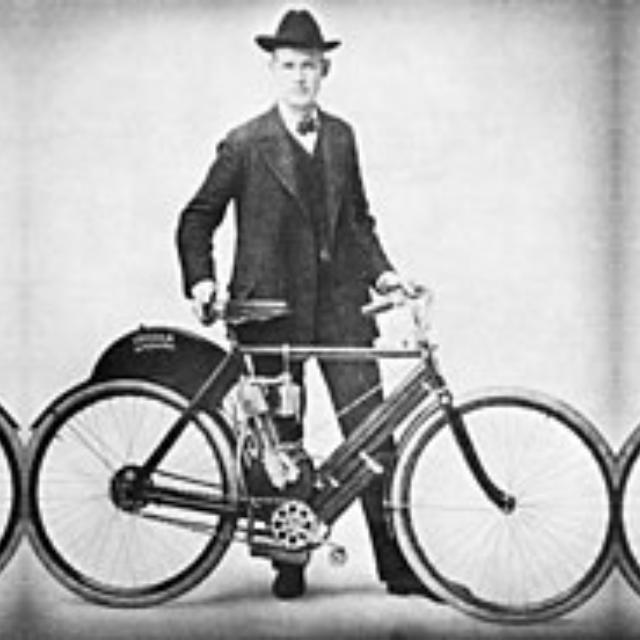obstacle: (36, 288, 610, 624), (621, 288, 640, 623), (0, 288, 12, 623)
person: (174, 8, 446, 362)
